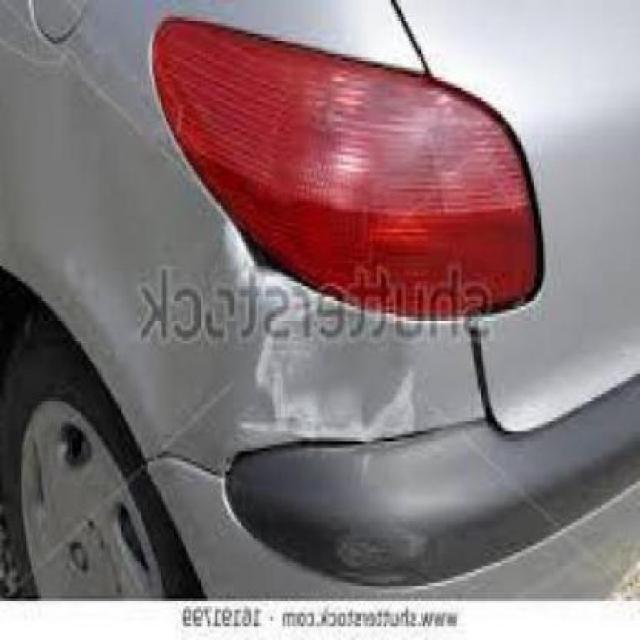damage: (216, 226, 433, 454)
